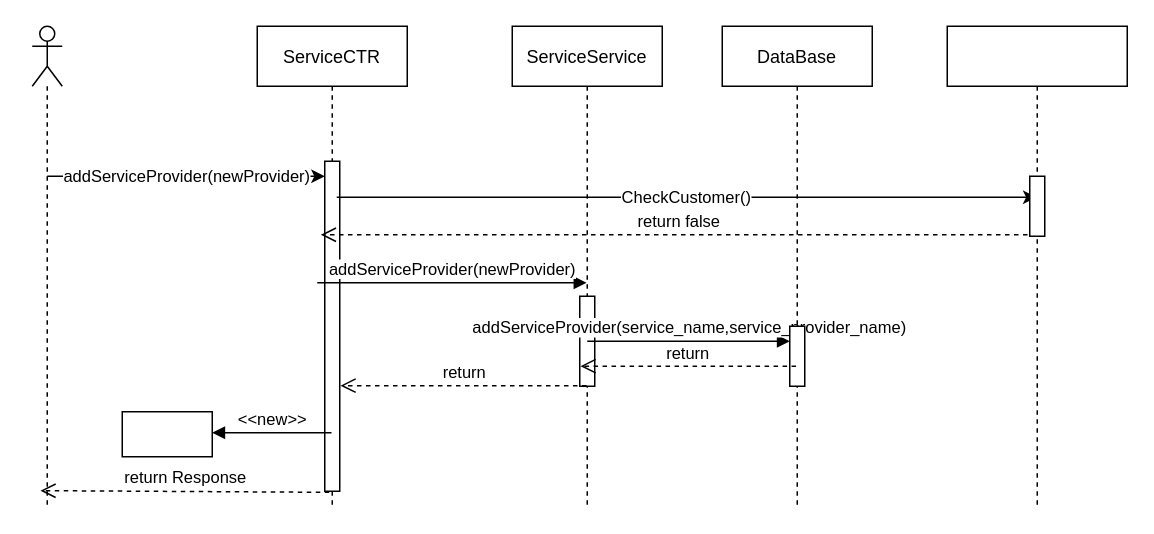
The diagram is 1154 pixels wide and 534 high, and some of its shapes have lost their labels. Each missing label, with the centre of its shape:
AuthenticationService: point (1036, 265)
Response: point (166, 433)
